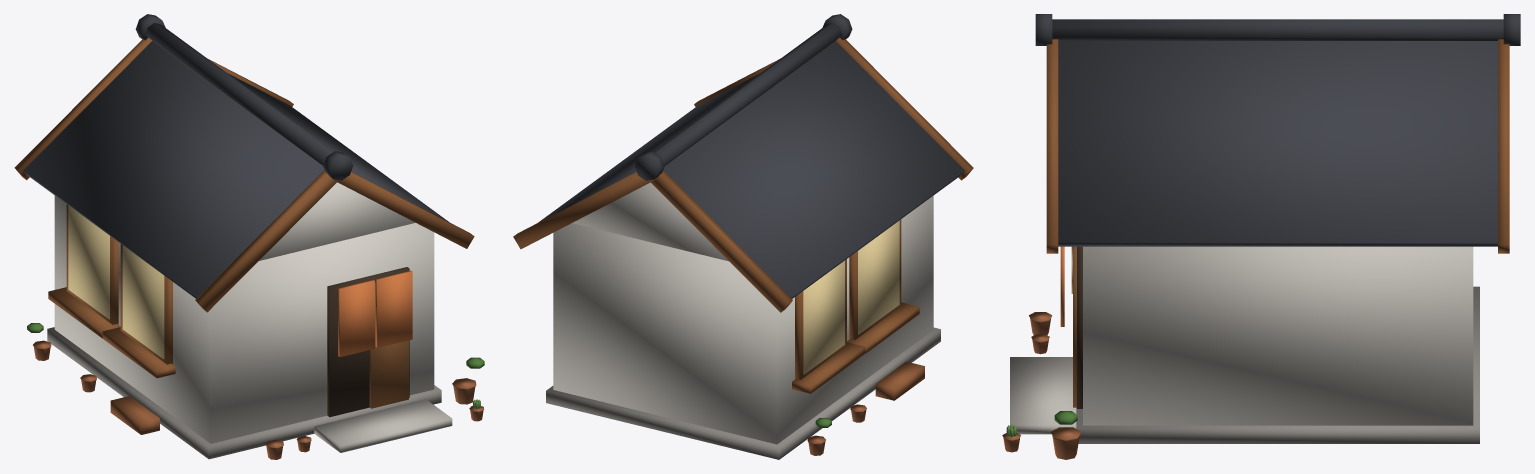
File: donburi.glb
3 views of the same model, side by side, from view 1: azimuth 30°, elevation 25°; view 2: azimuth 150°, elevation 25°; view 3: azimuth 270°, elevation 25° (orthographic). The views are drawn at different scales.
Visible parts, largest first — view 1: donburi; view 2: donburi; view 3: donburi.
Part boxes in pixels (x1,y1,x2,y2): donburi: (14, 14, 484, 459); donburi: (513, 14, 973, 459); donburi: (1002, 14, 1520, 459).
Bounding box in the file's own units: 2.58 × 2.33 × 3.06.
